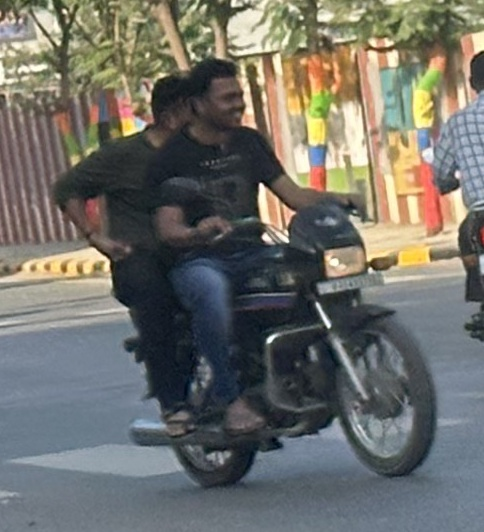BikeWithRider: (41, 54, 452, 495)
NoHelmet: (182, 54, 252, 134), (142, 59, 211, 137)
